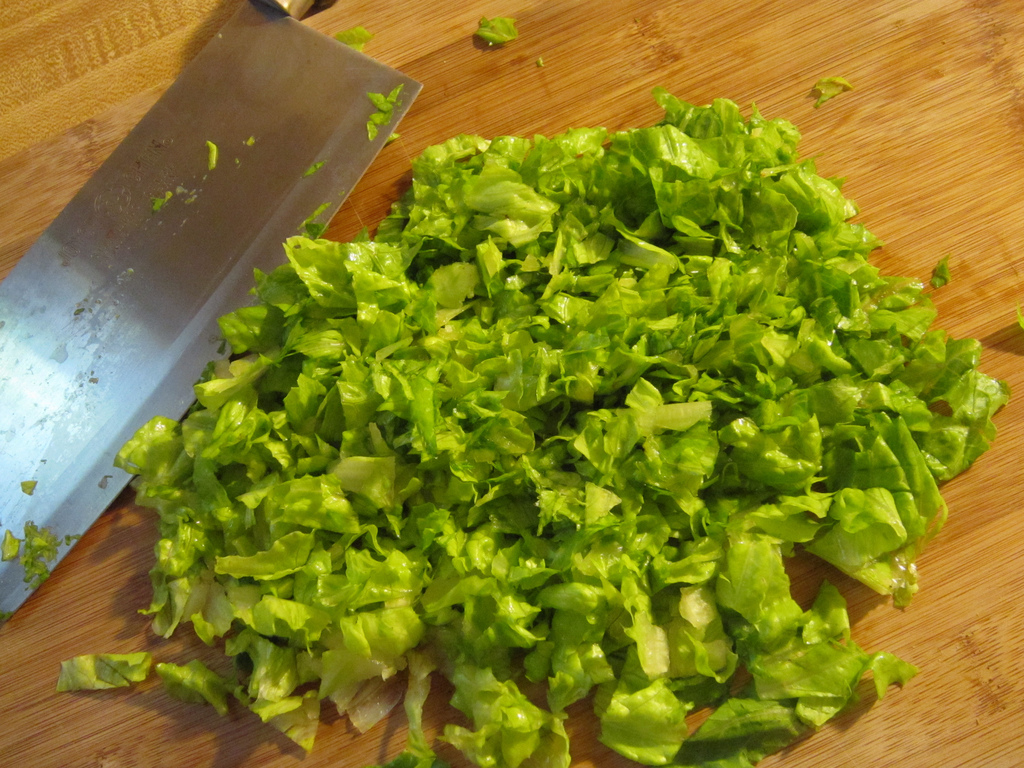chopped lettuce: (148, 153, 988, 767)
